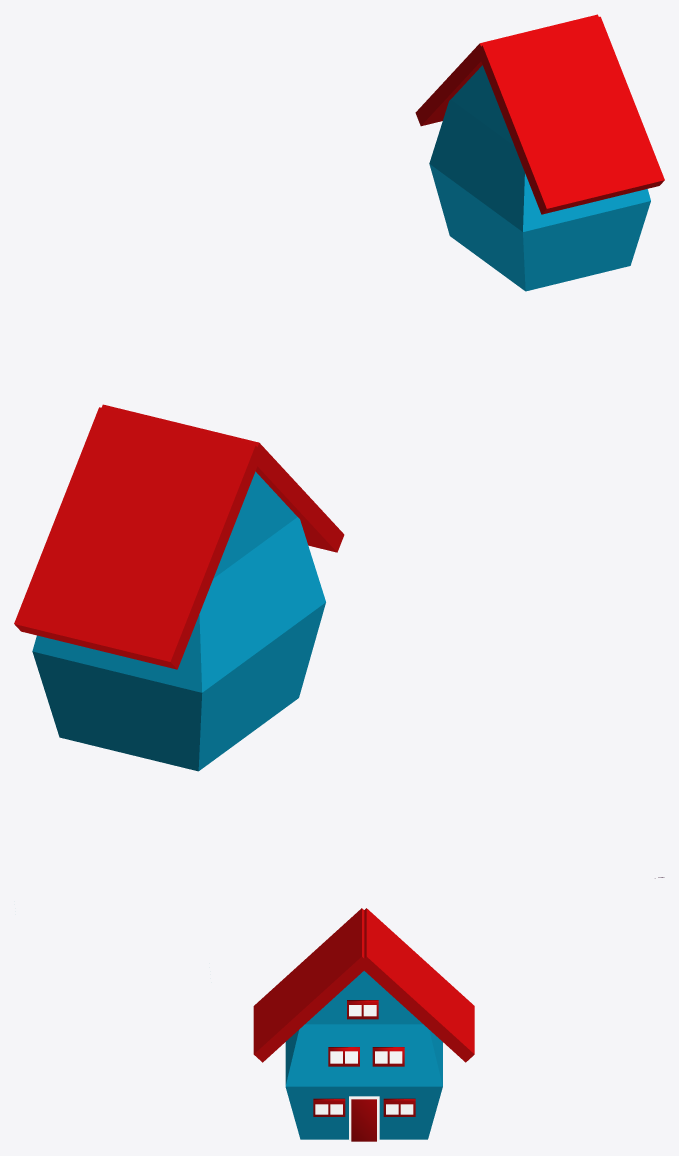
The model's file is Maison04.glb.
3 views of the same model, one above another, from view 1: azimuth 30°, elevation 25°; view 2: azimuth 150°, elevation 25°; view 3: azimuth 270°, elevation 25° (orthographic). The views are drawn at different scales.
Visible parts, largest first — view 1: Cube.010; view 2: Cube.010; view 3: Cube.010.
Boxes of the visible parts, bbox=[...] form: Cube.010: bbox=[415, 14, 664, 291]; Cube.010: bbox=[14, 404, 344, 771]; Cube.010: bbox=[253, 877, 664, 1141].
Bounding box in the file's own units: 63.02 × 32.33 × 102.
